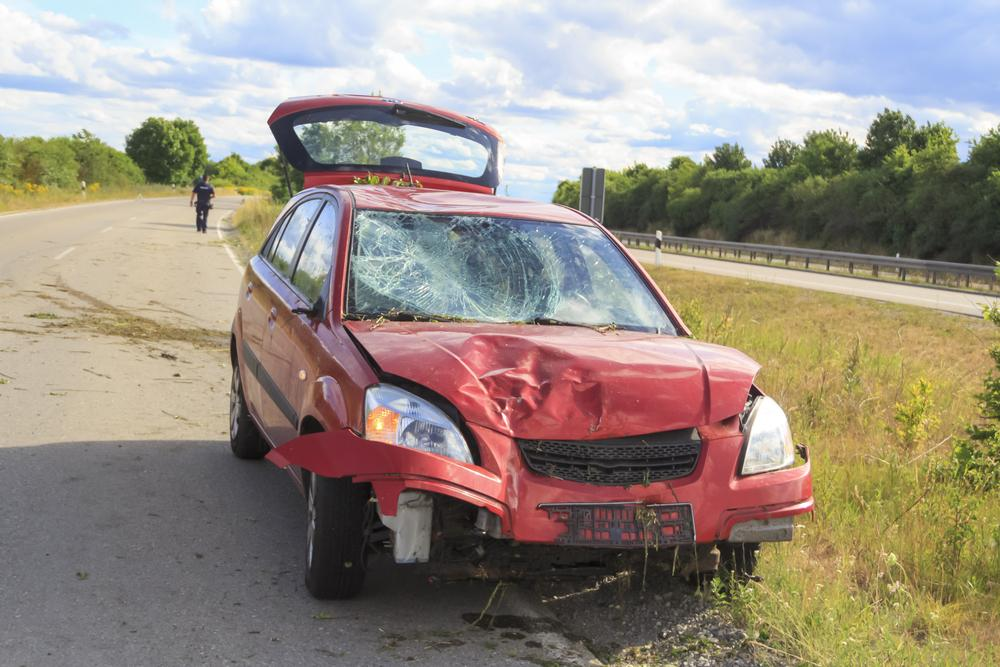dent: (451, 332, 607, 434), (356, 185, 538, 210)
glass shatter: (343, 210, 680, 335)
